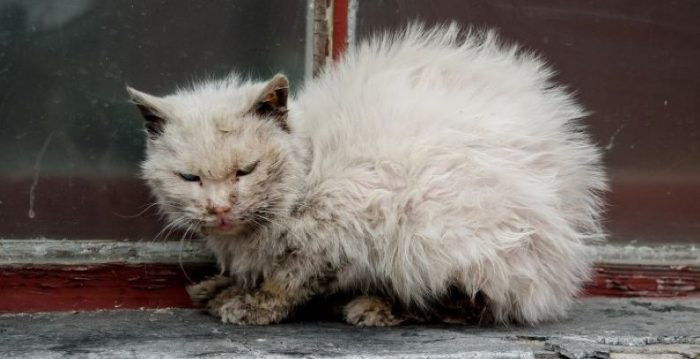cat: (115, 21, 619, 338)
